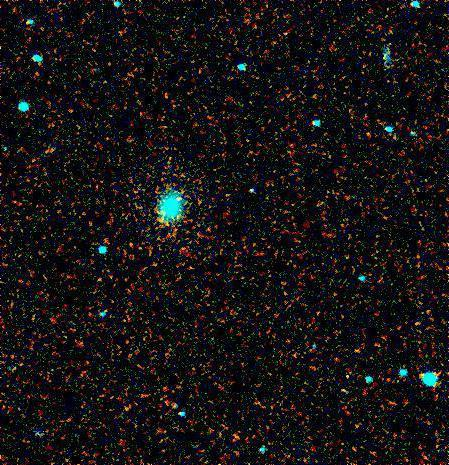star: (162, 183, 192, 213)
